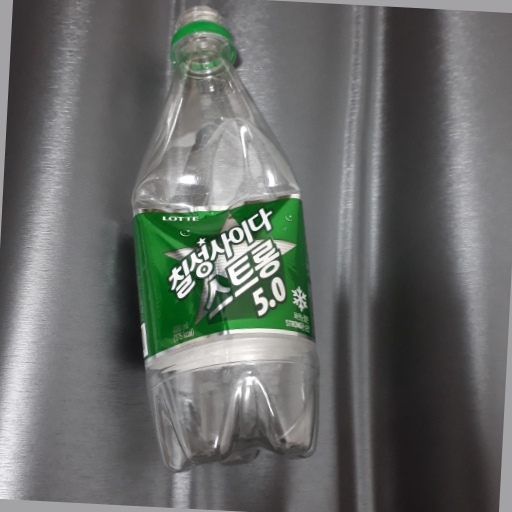Plastic_0: (125, 5, 324, 468)
